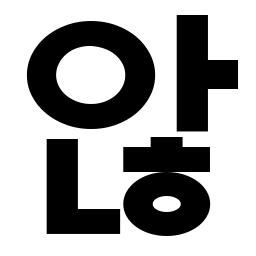Gaji: (164, 48, 228, 101)
